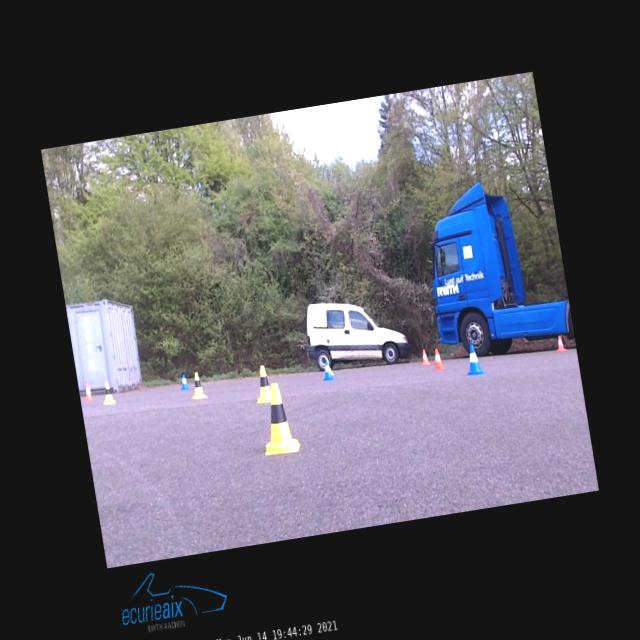blue_cone: (464, 344, 484, 376), (322, 358, 334, 381), (180, 374, 189, 389)
orange_cone: (432, 348, 444, 369), (83, 383, 93, 400), (555, 334, 565, 351), (420, 349, 430, 365)
yellow_cone: (254, 381, 300, 456), (252, 364, 272, 404), (189, 372, 207, 399), (101, 381, 116, 405)
